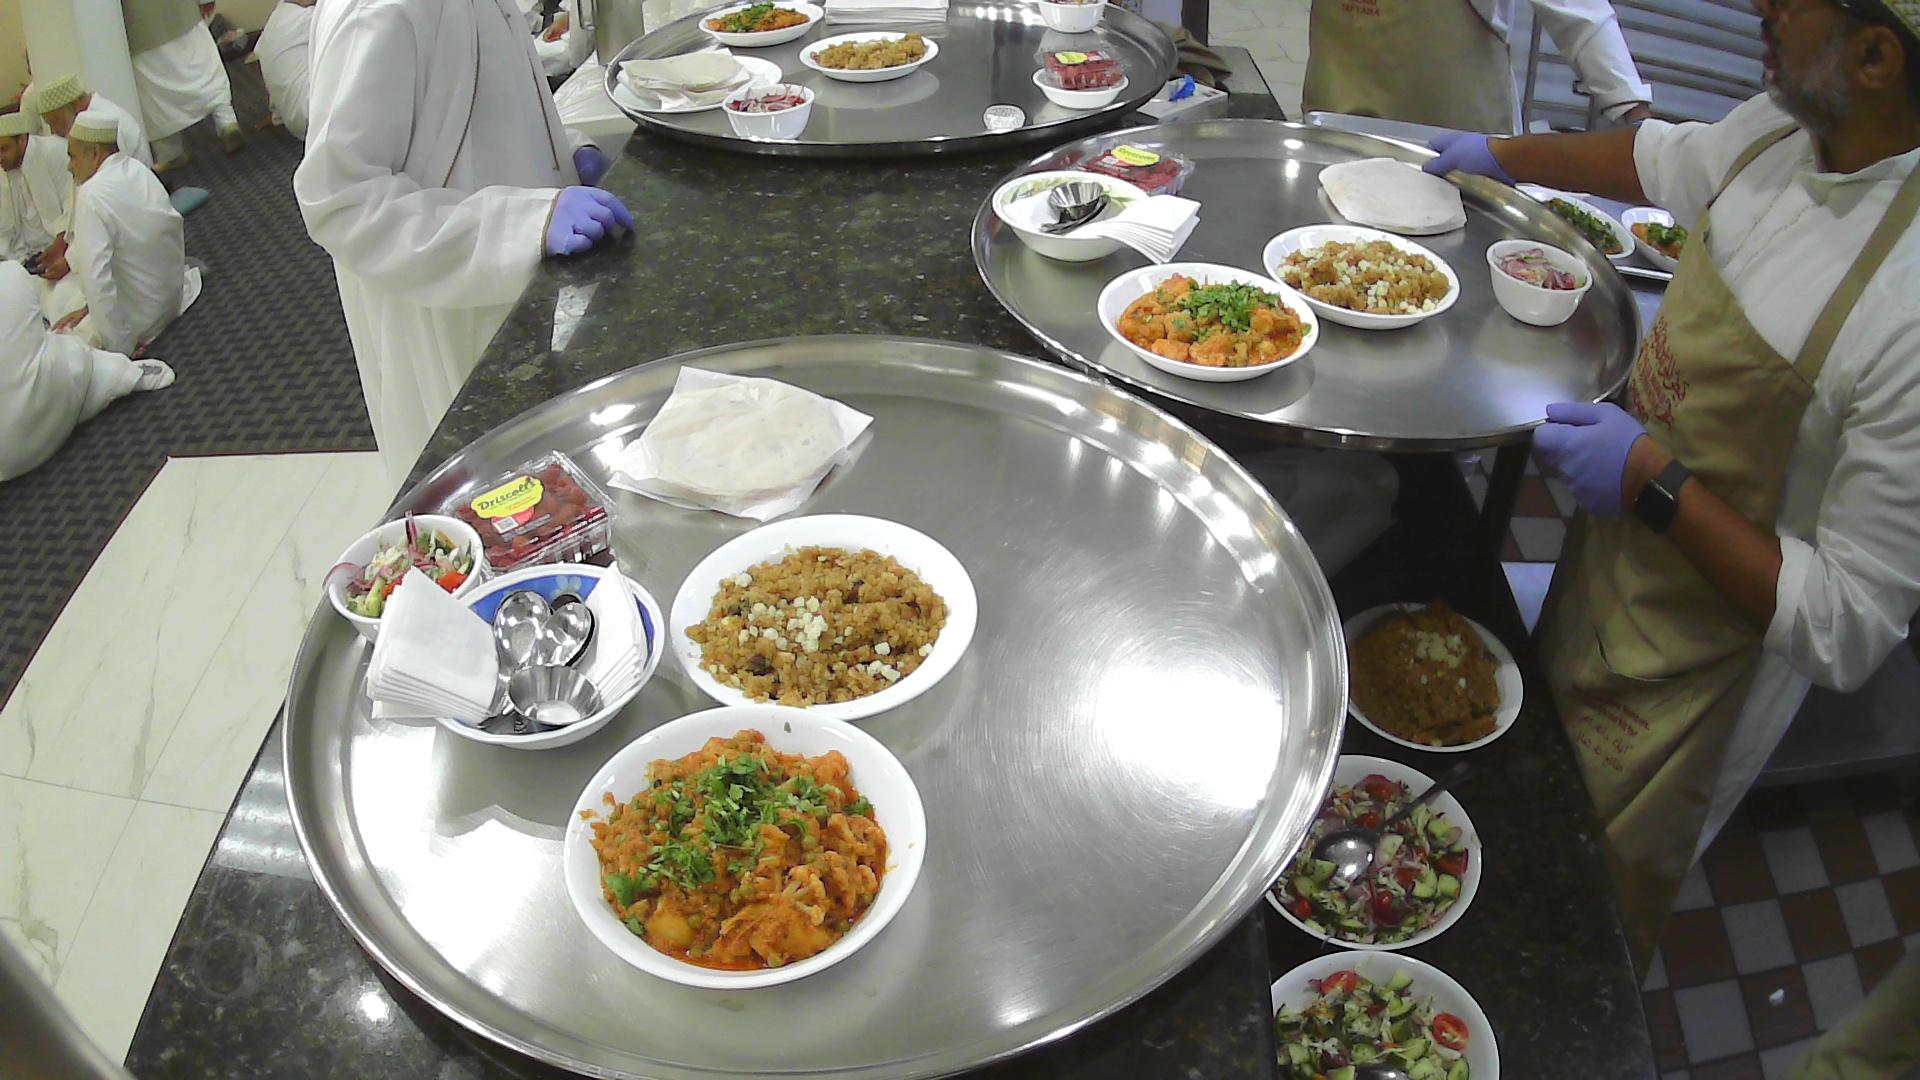thaal: (277, 330, 1356, 1080), (969, 115, 1644, 456), (603, 0, 1180, 162)
